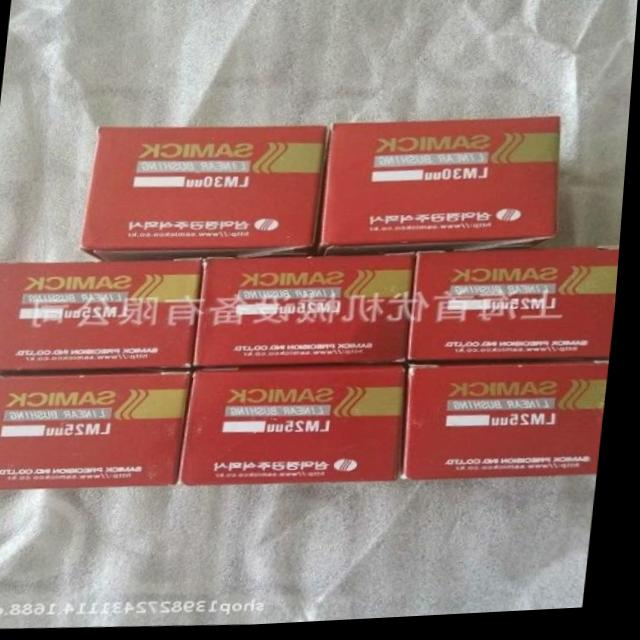box: (316, 121, 561, 256), (85, 129, 333, 261), (181, 368, 411, 486), (199, 255, 422, 369), (406, 366, 615, 484), (412, 253, 624, 368), (0, 368, 197, 489), (0, 259, 208, 371)
